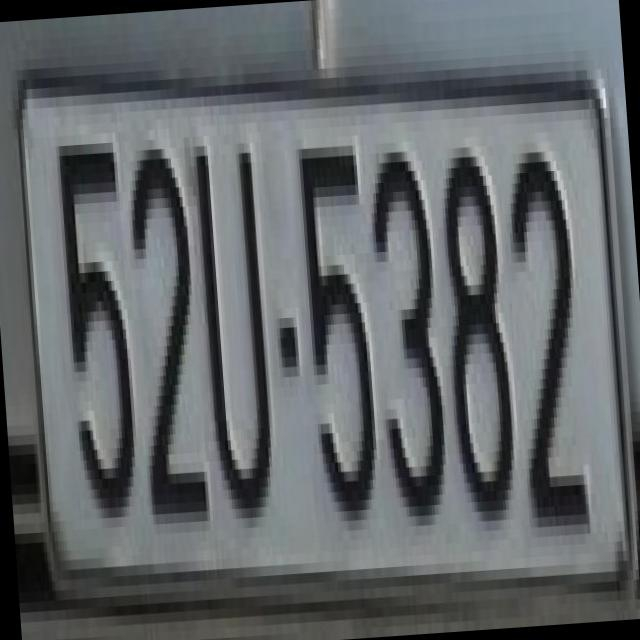2: (489, 110, 588, 518), (112, 108, 206, 516)
3: (356, 120, 449, 518)
5: (284, 115, 378, 523), (42, 112, 138, 510)
8: (425, 126, 520, 524)
U: (184, 102, 280, 510)
